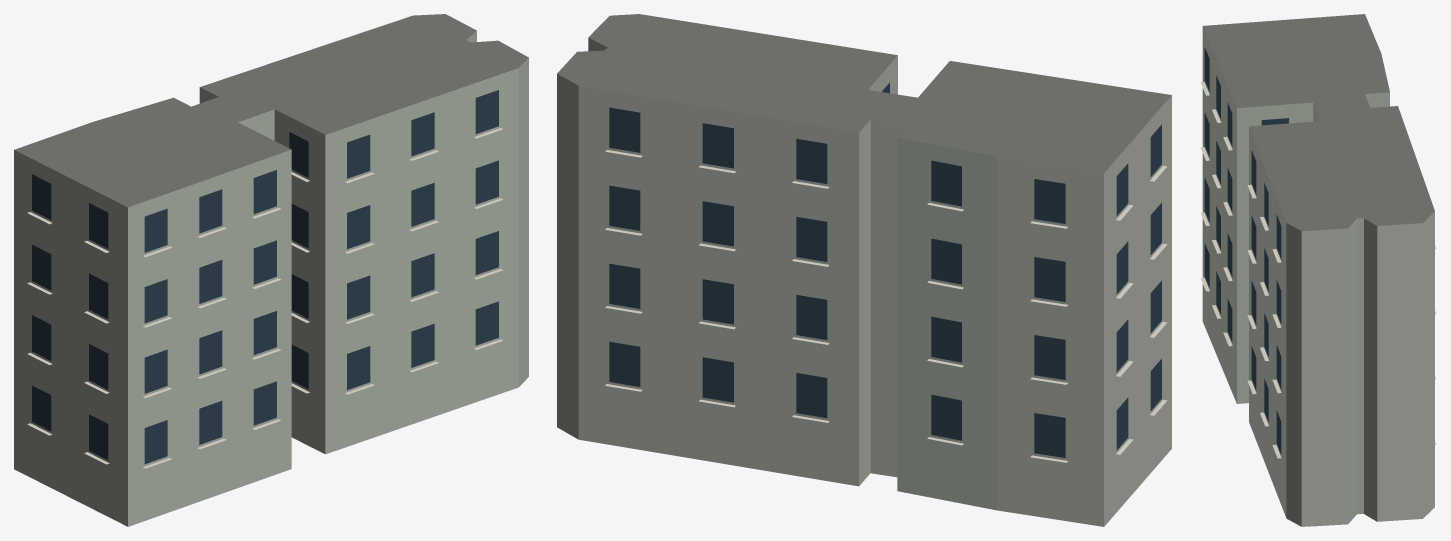
The picture shows the model from 3 angles, left to right: view 1: azimuth 30°, elevation 25°; view 2: azimuth 150°, elevation 25°; view 3: azimuth 270°, elevation 25°; orthographic projection. The views are drawn at different scales.
Visible parts, largest first — view 1: Footprint 0, Inferred window bays, Window sills; view 2: Footprint 0, Inferred window bays, Window sills; view 3: Footprint 0, Inferred window bays, Window sills.
Boxes of the visible parts, left/top/right/bottom form: Footprint 0: left=14, top=14, right=528, bottom=526; Inferred window bays: left=32, top=90, right=498, bottom=463; Window sills: left=27, top=128, right=503, bottom=468; Footprint 0: left=557, top=14, right=1171, bottom=526; Inferred window bays: left=609, top=82, right=1161, bottom=457; Window sills: left=605, top=150, right=1167, bottom=462; Footprint 0: left=1202, top=14, right=1434, bottom=526; Inferred window bays: left=1204, top=47, right=1288, bottom=454; Window sills: left=1200, top=82, right=1436, bottom=458.
Size of the model in its own units: 22.86 by 14.49 by 10.49.
